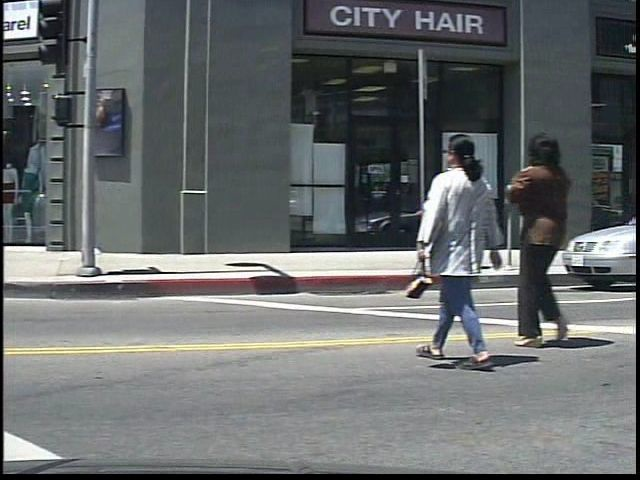person: (515, 125, 607, 353), (428, 121, 511, 371)
